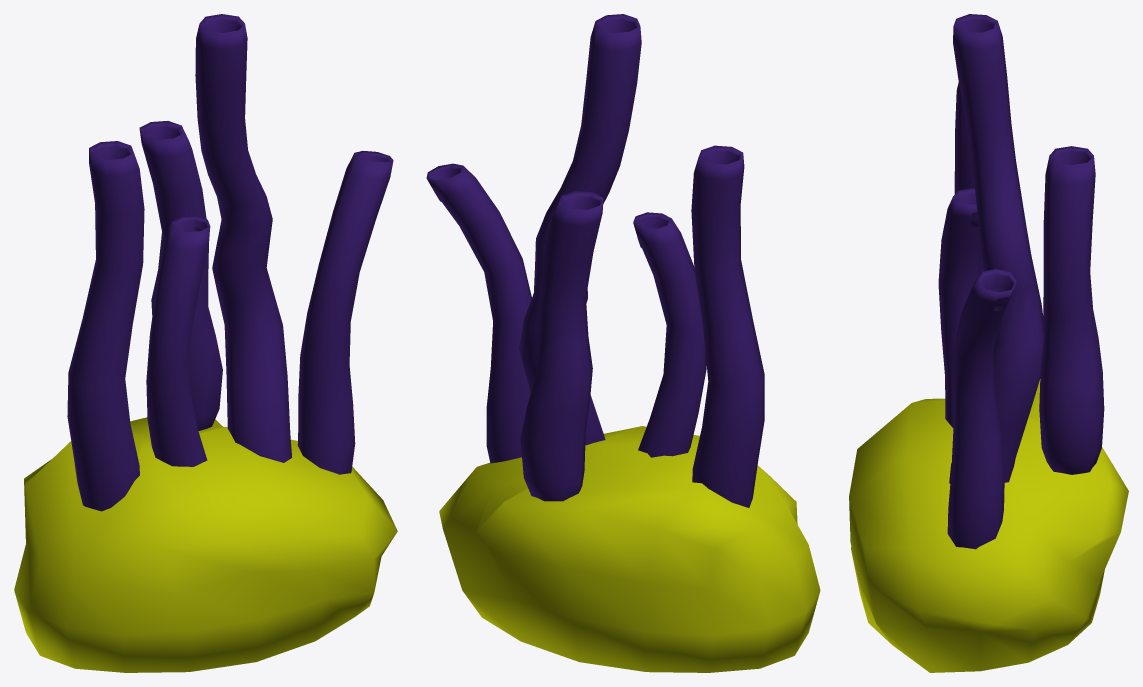
File: mesh_coral.fbx
The picture shows the model from 3 angles, left to right: view 1: azimuth 30°, elevation 25°; view 2: azimuth 150°, elevation 25°; view 3: azimuth 270°, elevation 25°; orthographic projection.
Visible parts, largest first — view 1: Cube.002; view 2: Cube.002; view 3: Cube.002.
Part boxes in pixels (bbox=[...]): Cube.002: bbox=[14, 14, 397, 672]; Cube.002: bbox=[426, 14, 820, 672]; Cube.002: bbox=[849, 14, 1128, 672].
Size of the model in its own units: 176 by 271 by 117.
